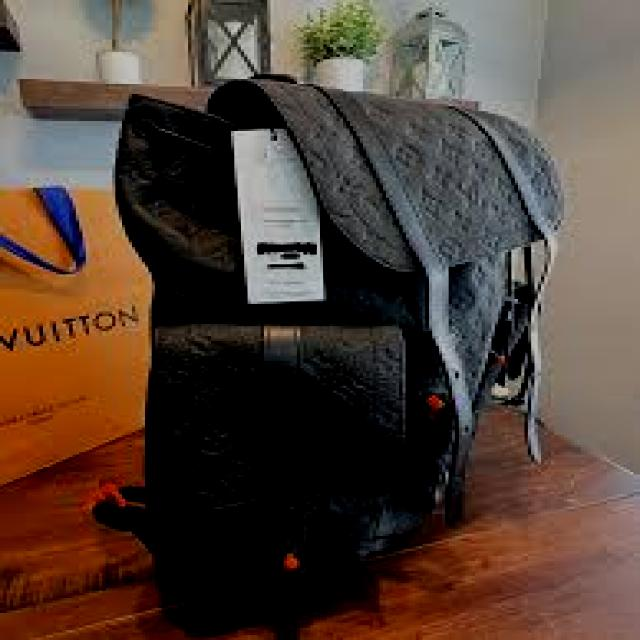backpack: (86, 60, 587, 620)
